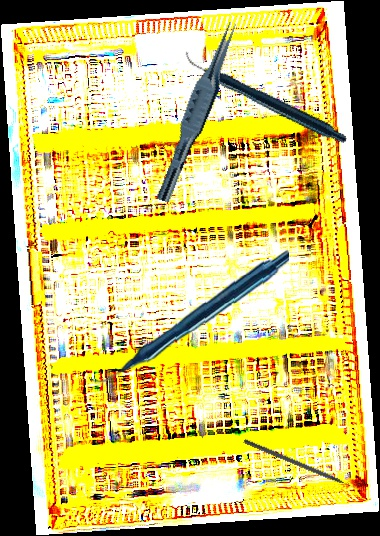Handpiece: (184, 4, 348, 189), (92, 242, 290, 392)
Hook Surgical: (242, 438, 364, 494)
Tissue Forceps: (155, 17, 242, 207)
